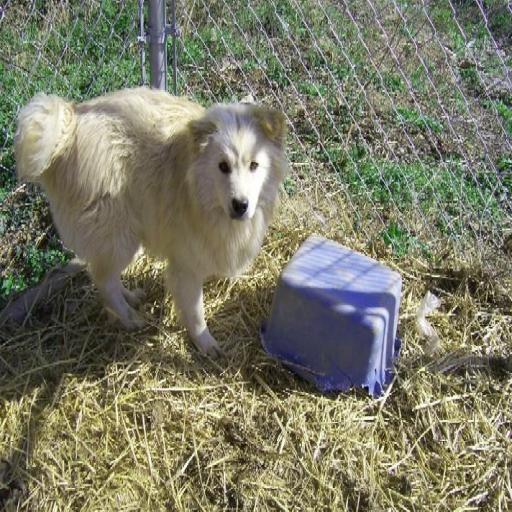dog_face: (194, 104, 290, 228)
